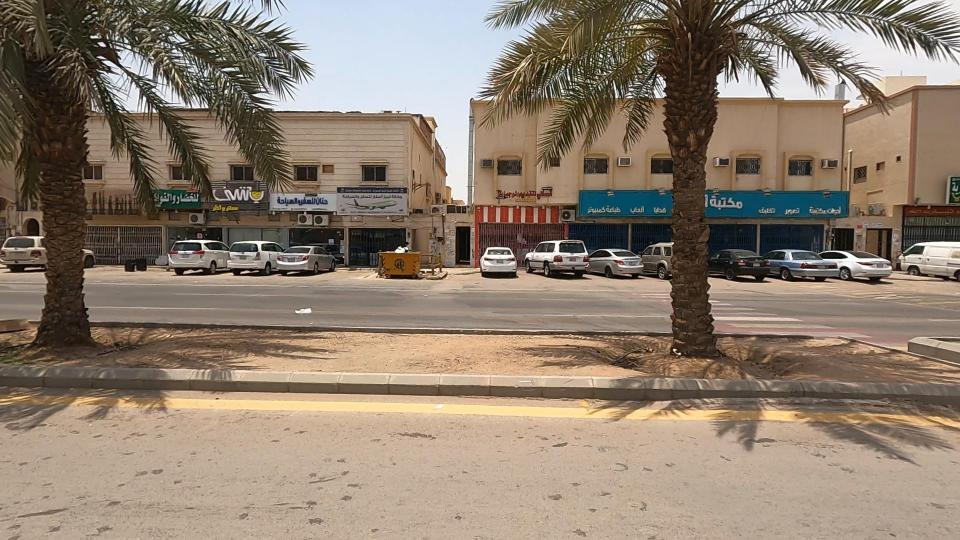GARBAGE: (261, 277, 344, 342), (366, 230, 427, 273), (655, 340, 701, 371)
